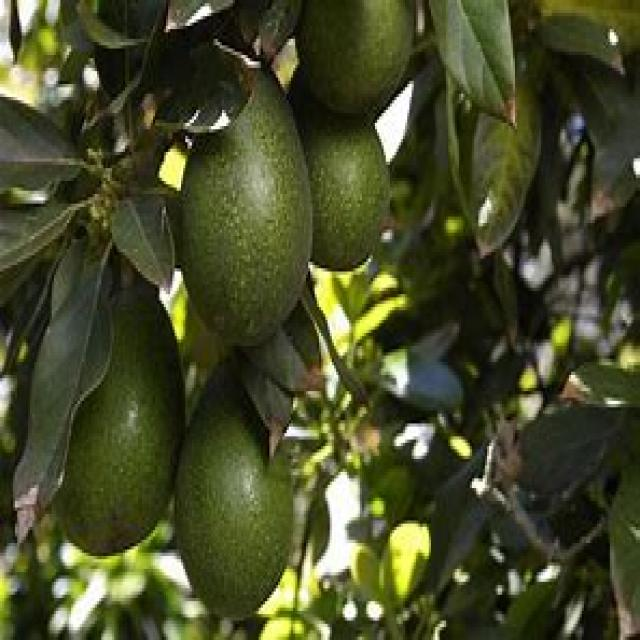Avocado: (180, 58, 319, 363), (48, 260, 188, 552), (174, 354, 297, 629), (304, 99, 398, 272), (298, 0, 417, 119)
